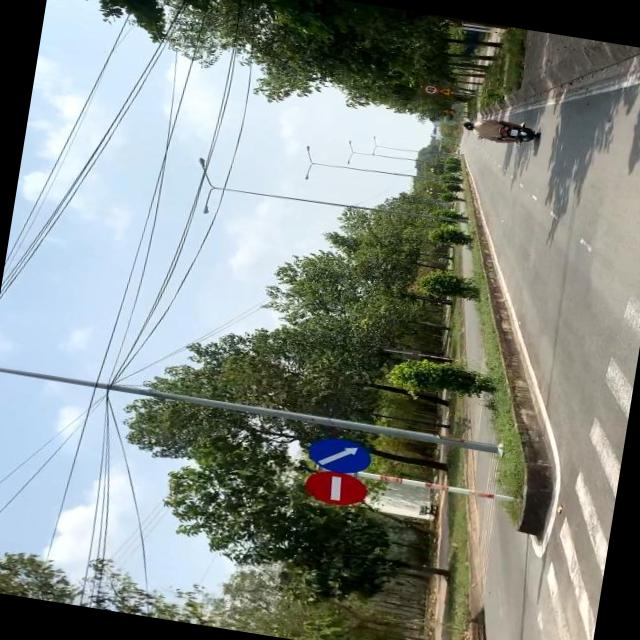P-102: (303, 468, 372, 510)
R-302a: (306, 433, 372, 474)
